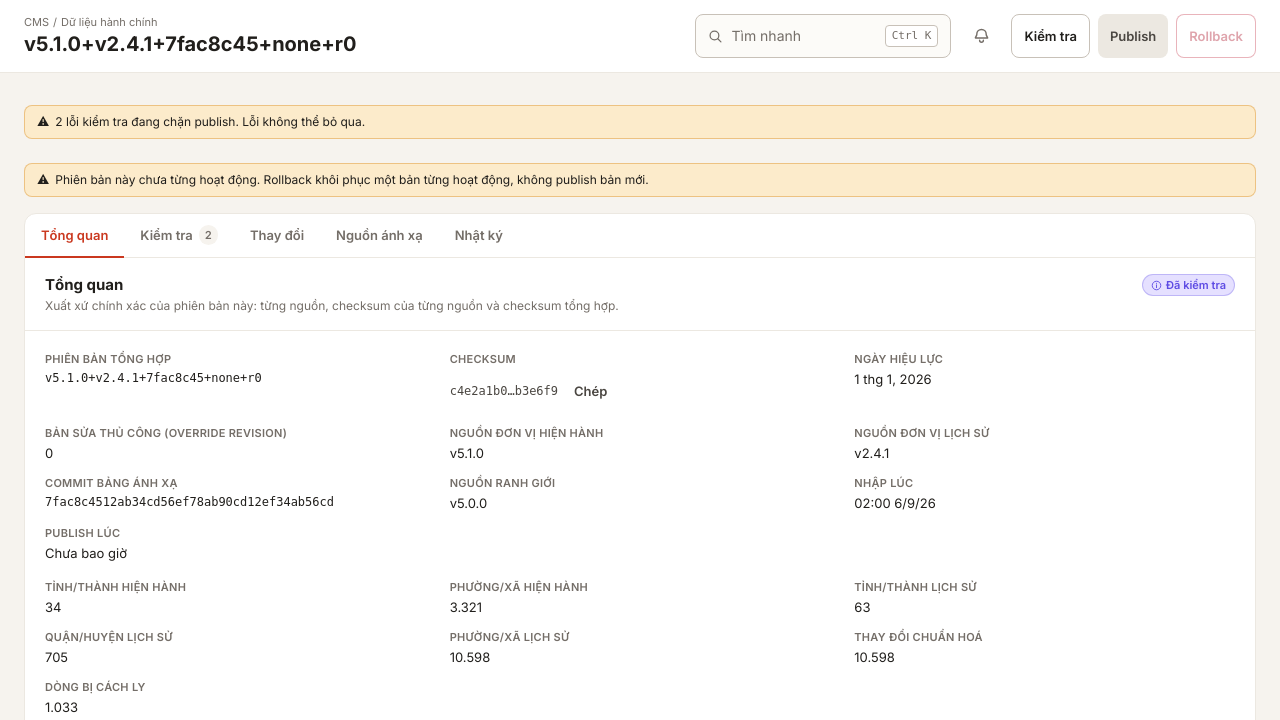
Test: validation presentation › separates ERROR from WARNING and says which one blocks
Click the tab "Kiểm tra 2" at point(179, 236), box [124, 214, 234, 258]
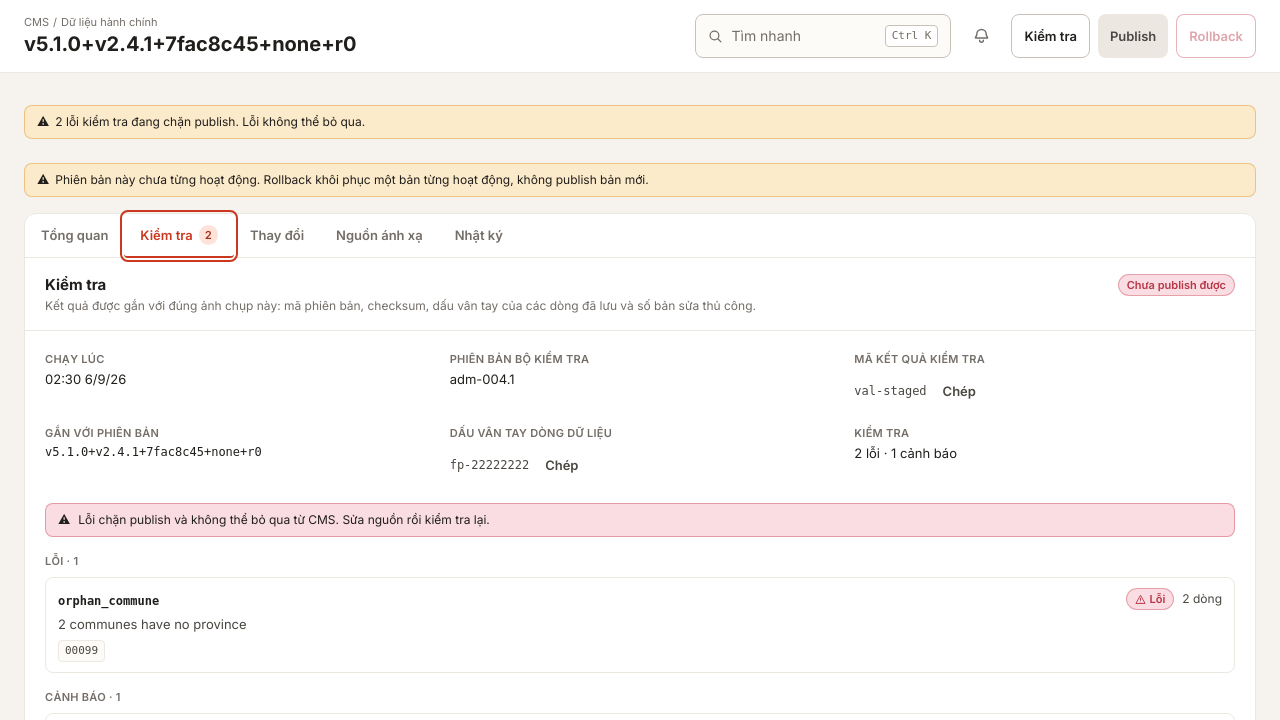
expect the text "⚠ 2 lỗi kiểm tra đang chặn publish. Lỗi không thể bỏ qua." is shown: met, box [24, 105, 1256, 139]
expect the text "orphan_commune" is shown: met, box [58, 592, 159, 610]
